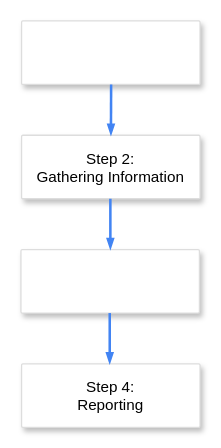
Some shapes in this 221 by 448 pixel diagram are drawn without their labels. The shapes that lost their labels are listed below. From the top down, each one's centre as x and y in pixels, then its label:
At point (111, 54): "Step 1: Prompt Revision".
At point (111, 282): "Step 3: Filtering Information".
